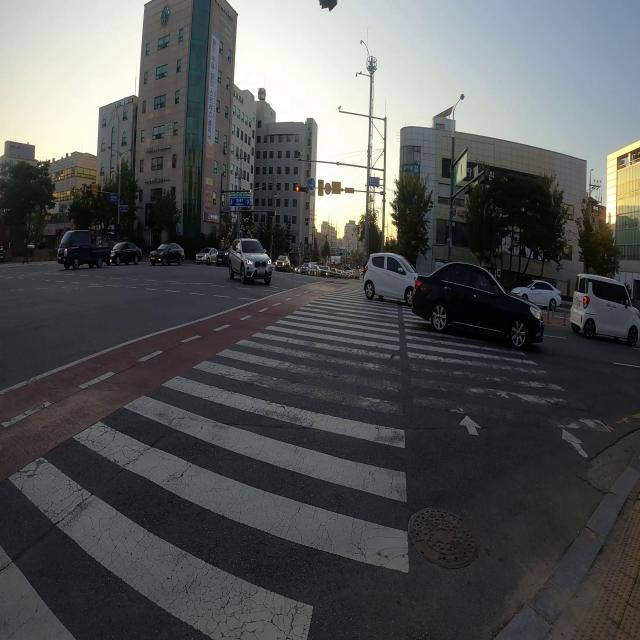crosswalk: (1, 284, 613, 639)
